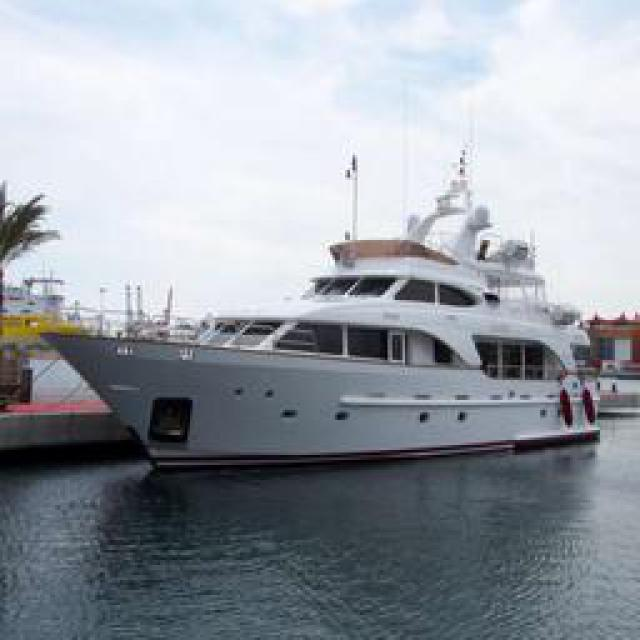Ship: (55, 180, 605, 475)
